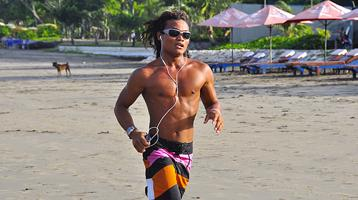person: (115, 10, 226, 200)
